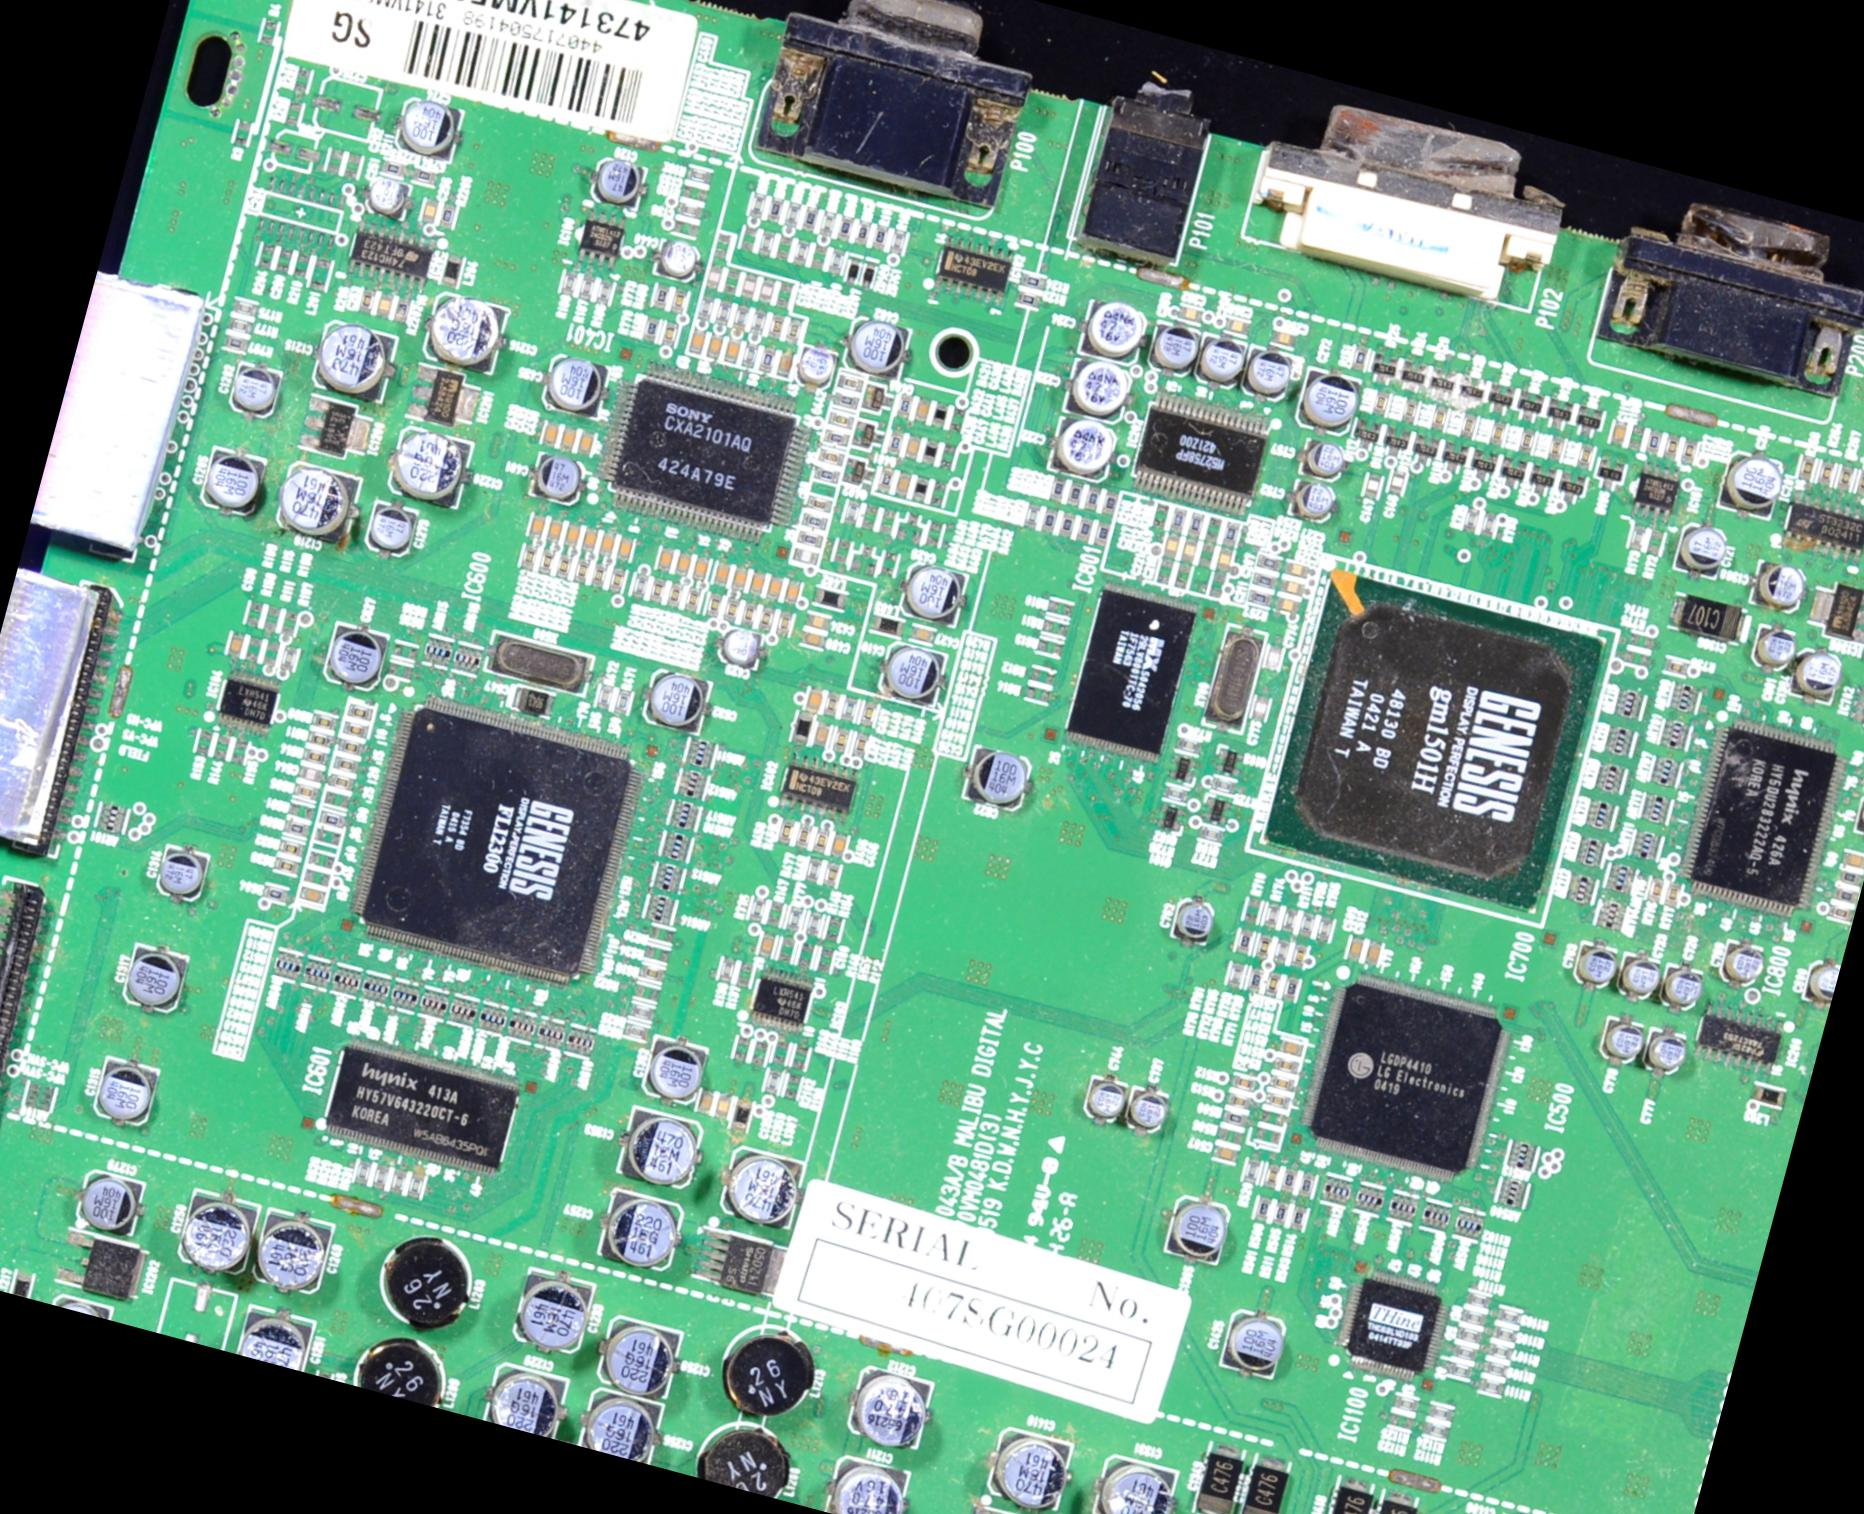Capacitor Jumper: (1666, 592, 1747, 646), (1194, 1441, 1246, 1512), (1239, 1454, 1291, 1512), (312, 93, 380, 121), (1322, 1478, 1374, 1512), (507, 684, 556, 718), (1367, 1489, 1419, 1512), (270, 139, 321, 162), (811, 721, 831, 751), (695, 1089, 715, 1115), (913, 397, 933, 423), (1263, 644, 1283, 670), (681, 184, 709, 202), (324, 150, 344, 175), (805, 687, 825, 712), (723, 338, 741, 365), (792, 548, 818, 567), (298, 887, 326, 904), (910, 624, 933, 644), (1178, 306, 1203, 324), (775, 283, 794, 307), (1279, 576, 1303, 595), (894, 473, 913, 497), (542, 422, 561, 446), (1214, 1145, 1240, 1162), (715, 1094, 732, 1120), (1269, 331, 1296, 348), (1209, 573, 1226, 599), (903, 436, 922, 459), (298, 766, 323, 783), (758, 933, 775, 958), (723, 269, 740, 294), (1388, 470, 1405, 494), (1274, 595, 1299, 612), (1174, 564, 1191, 589), (656, 547, 673, 572), (675, 552, 692, 576), (806, 613, 831, 630), (227, 632, 244, 657), (1279, 1038, 1302, 1055), (1611, 422, 1628, 445), (811, 246, 828, 269), (740, 226, 757, 249), (673, 219, 696, 236), (1364, 473, 1381, 496), (1181, 538, 1198, 561), (1198, 542, 1215, 565), (1163, 536, 1180, 559), (1157, 561, 1174, 584), (578, 431, 595, 454), (1251, 695, 1268, 718), (582, 527, 599, 550), (547, 519, 564, 542), (1348, 936, 1365, 959), (1365, 941, 1382, 964), (829, 834, 846, 857), (777, 235, 792, 260), (1285, 562, 1310, 578), (1841, 851, 1862, 868), (749, 572, 766, 593), (730, 567, 747, 589), (766, 576, 783, 598), (713, 564, 730, 586), (564, 524, 581, 545), (1225, 318, 1248, 334), (344, 154, 360, 178), (690, 329, 706, 352), (777, 352, 792, 375), (707, 335, 723, 358), (276, 249, 292, 272), (377, 295, 392, 318), (561, 426, 576, 450), (530, 514, 545, 538), (802, 630, 825, 646), (616, 539, 633, 559), (715, 235, 730, 256), (693, 558, 709, 579), (599, 533, 615, 555), (785, 581, 800, 601), (423, 201, 437, 222), (1218, 548, 1231, 567)
Connector: (1240, 80, 1581, 309), (751, 0, 1059, 221), (1612, 181, 1862, 402), (1075, 57, 1228, 267)
IC: (1243, 553, 1620, 928), (344, 687, 652, 995), (1296, 964, 1517, 1188), (588, 354, 822, 552), (1674, 712, 1853, 922), (1062, 579, 1200, 763), (1121, 378, 1288, 518), (1331, 1265, 1456, 1386), (1693, 1000, 1785, 1075), (344, 218, 435, 294), (1781, 490, 1862, 565), (775, 751, 862, 822), (933, 233, 1016, 306), (298, 394, 378, 465), (406, 363, 486, 431), (751, 966, 815, 1034), (216, 667, 283, 732), (1802, 576, 1862, 647), (1632, 460, 1682, 525), (574, 210, 629, 269), (1849, 683, 1862, 732)
Resistor Jumper: (310, 825, 343, 845), (318, 810, 347, 830), (306, 850, 335, 870), (837, 697, 860, 721), (1679, 437, 1699, 465), (1429, 403, 1449, 431), (894, 394, 914, 422), (256, 243, 276, 270), (337, 737, 364, 757), (831, 728, 852, 752), (678, 201, 704, 221), (323, 791, 351, 810), (837, 372, 865, 391), (822, 429, 849, 448), (817, 448, 845, 467), (1466, 1290, 1490, 1310), (820, 691, 840, 715), (859, 703, 879, 728), (848, 732, 868, 757), (280, 612, 300, 636), (195, 729, 213, 755), (278, 837, 304, 856), (718, 956, 737, 983), (735, 961, 754, 987), (772, 1038, 791, 1064), (791, 1044, 809, 1071), (1288, 1205, 1306, 1231), (783, 1074, 802, 1100), (1798, 456, 1816, 482), (828, 249, 846, 275), (732, 304, 751, 331), (652, 283, 670, 309), (1042, 618, 1069, 636), (647, 576, 666, 603), (740, 601, 758, 627), (571, 558, 590, 584), (1175, 735, 1201, 754), (1646, 876, 1665, 902), (347, 703, 374, 721), (826, 411, 854, 428), (1663, 658, 1691, 675), (879, 508, 896, 536), (777, 938, 795, 962), (1228, 1092, 1252, 1111), (630, 1003, 655, 1021), (749, 1041, 768, 1066), (1456, 1326, 1481, 1344), (1350, 346, 1368, 371), (818, 212, 837, 236), (835, 216, 854, 241), (1458, 414, 1476, 439), (1628, 525, 1646, 550), (785, 318, 803, 343), (1461, 508, 1479, 533), (561, 270, 579, 295), (948, 408, 967, 433), (1101, 490, 1120, 514), (1049, 477, 1067, 502), (1066, 482, 1084, 507), (1625, 649, 1649, 667), (232, 300, 256, 318), (877, 468, 896, 493), (230, 317, 255, 335), (925, 522, 944, 547), (1838, 868, 1862, 887), (1297, 911, 1316, 936), (1243, 898, 1262, 922), (644, 944, 670, 961), (304, 868, 330, 885), (1263, 1162, 1280, 1188), (1492, 1326, 1518, 1343), (1487, 1344, 1513, 1361), (1393, 1395, 1419, 1412), (1663, 434, 1680, 460), (792, 239, 809, 266), (832, 391, 859, 408), (1629, 632, 1656, 649), (939, 445, 956, 471), (1047, 599, 1073, 616), (834, 538, 851, 564), (775, 610, 792, 636), (1163, 785, 1189, 802), (1197, 825, 1223, 842), (213, 734, 230, 759), (805, 911, 822, 936), (786, 907, 803, 932), (749, 896, 766, 921), (289, 802, 313, 819), (1218, 1128, 1243, 1145), (734, 1037, 751, 1061), (624, 1023, 649, 1040), (1496, 1309, 1521, 1326), (1461, 1309, 1486, 1326), (1424, 1421, 1449, 1438), (1816, 460, 1833, 485), (686, 167, 710, 184), (1646, 429, 1663, 454), (854, 219, 871, 244), (802, 207, 818, 232), (1401, 397, 1418, 422), (439, 202, 456, 227), (768, 314, 785, 338), (670, 287, 687, 312), (715, 301, 732, 326), (888, 431, 905, 456), (1223, 522, 1240, 547), (1076, 518, 1093, 542), (1041, 508, 1058, 533), (930, 482, 947, 507), (814, 465, 839, 482), (808, 494, 832, 511), (845, 501, 862, 525), (802, 513, 826, 530), (797, 531, 822, 548), (723, 598, 740, 623), (608, 567, 625, 592), (520, 544, 537, 569), (684, 589, 701, 613), (553, 553, 570, 578), (1212, 777, 1237, 794), (263, 606, 280, 630), (1280, 907, 1297, 932), (1263, 904, 1280, 928), (246, 636, 263, 661), (1265, 970, 1282, 995), (1282, 976, 1299, 1001), (307, 731, 332, 748), (334, 755, 360, 771), (394, 295, 409, 321), (304, 748, 327, 765), (232, 740, 249, 763), (825, 918, 842, 941), (766, 902, 783, 925), (1271, 1075, 1294, 1092), (286, 819, 309, 836), (650, 924, 673, 941), (1271, 1202, 1288, 1225), (764, 1071, 781, 1094), (1449, 1361, 1472, 1378), (1838, 467, 1855, 490), (1629, 425, 1646, 448), (873, 226, 890, 249), (1022, 272, 1046, 289), (1577, 443, 1594, 467), (740, 275, 757, 298), (758, 280, 775, 303), (749, 309, 766, 332), (696, 297, 713, 320), (596, 281, 613, 304), (661, 321, 678, 345), (293, 253, 310, 277), (358, 289, 375, 312), (1084, 487, 1101, 510), (1093, 522, 1110, 545), (1059, 513, 1076, 536), (862, 505, 879, 528), (1038, 638, 1061, 655), (1032, 667, 1055, 684), (1835, 887, 1858, 904), (706, 595, 723, 618), (590, 564, 607, 587), (1025, 686, 1049, 703), (1828, 904, 1852, 921), (615, 689, 632, 712), (394, 643, 417, 660), (389, 663, 412, 680), (1316, 918, 1333, 941), (280, 646, 297, 669), (263, 643, 280, 666), (1273, 939, 1290, 962), (794, 825, 811, 848), (777, 820, 794, 844), (1246, 967, 1263, 990), (1228, 962, 1245, 986), (1223, 1111, 1248, 1126), (275, 857, 300, 873), (635, 986, 659, 1001), (1452, 1344, 1476, 1360), (1429, 1404, 1453, 1420), (1390, 1414, 1415, 1429), (412, 168, 437, 184), (1646, 530, 1662, 555), (644, 317, 659, 341), (1188, 511, 1203, 536), (1152, 504, 1168, 528), (1252, 573, 1277, 589), (1248, 590, 1273, 606), (225, 335, 250, 351), (882, 552, 897, 576), (539, 548, 554, 573), (633, 573, 649, 598), (806, 857, 822, 882), (1263, 1109, 1285, 1126), (598, 684, 615, 706), (327, 774, 354, 788), (817, 949, 832, 972), (797, 944, 812, 967), (1232, 1075, 1256, 1091), (1266, 1092, 1290, 1108), (1256, 1128, 1279, 1143), (641, 966, 664, 981), (1299, 1173, 1314, 1196), (1282, 1169, 1297, 1193), (1484, 1361, 1507, 1377), (1479, 1378, 1503, 1393), (749, 193, 764, 216), (785, 204, 800, 227), (1549, 436, 1564, 459), (1518, 429, 1534, 453), (758, 232, 774, 255), (1481, 513, 1496, 536), (579, 275, 595, 298), (1169, 508, 1184, 531), (1257, 555, 1280, 570), (1024, 504, 1039, 527), (1663, 882, 1679, 905), (247, 601, 263, 624), (1291, 944, 1306, 967), (1237, 930, 1252, 953), (1256, 935, 1271, 958), (812, 830, 828, 853), (343, 721, 366, 737), (312, 714, 335, 729), (823, 864, 839, 887), (1373, 391, 1387, 416), (667, 582, 681, 607), (295, 783, 317, 799), (266, 885, 287, 901), (1245, 1160, 1260, 1182), (768, 198, 783, 219), (1016, 290, 1038, 306), (381, 162, 403, 178), (707, 266, 723, 287), (758, 610, 774, 632), (1274, 1058, 1297, 1072), (1256, 1196, 1269, 1219), (891, 232, 905, 253), (1490, 422, 1504, 443), (1206, 518, 1220, 539), (1856, 471, 1862, 494)
Transistor: (857, 382, 896, 419), (849, 419, 886, 456), (846, 539, 883, 576), (1365, 352, 1402, 388), (1541, 397, 1577, 433), (840, 454, 876, 490), (893, 510, 928, 545), (1512, 389, 1546, 425), (1453, 374, 1487, 409), (1407, 434, 1442, 468), (1571, 406, 1605, 440), (1554, 473, 1588, 507), (1350, 419, 1384, 453), (1425, 368, 1458, 402), (1594, 457, 1626, 491), (1521, 465, 1555, 497), (1484, 383, 1515, 419), (1214, 746, 1246, 779), (1200, 796, 1232, 828), (1399, 362, 1430, 395), (1381, 426, 1412, 460), (1438, 443, 1470, 474), (1467, 453, 1500, 484), (1496, 459, 1527, 490), (1168, 754, 1197, 783), (1157, 803, 1184, 833)
